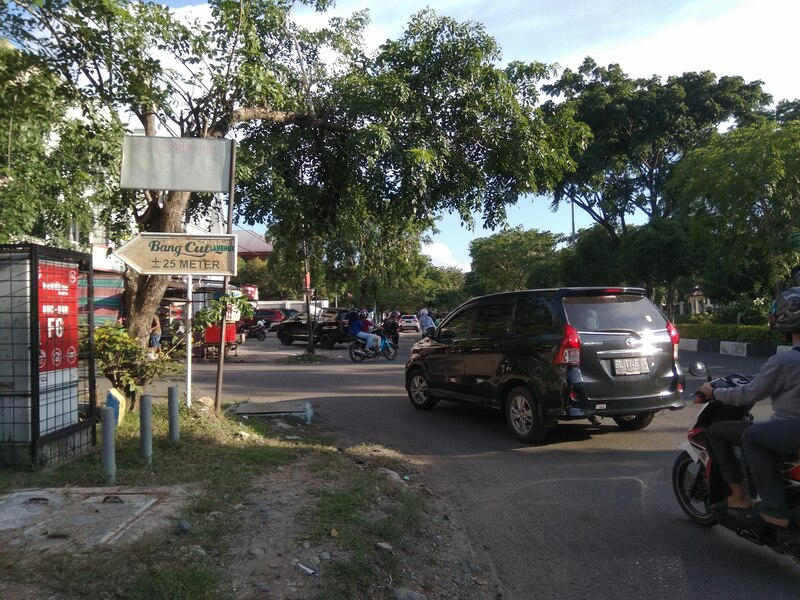car: (403, 284, 688, 447), (275, 306, 363, 352)
motorcycle: (666, 357, 800, 574)
